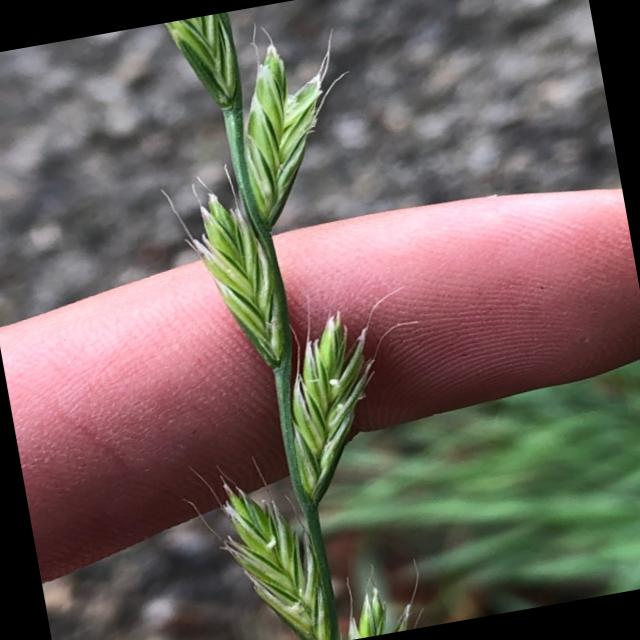Lolium: (122, 0, 451, 640)
